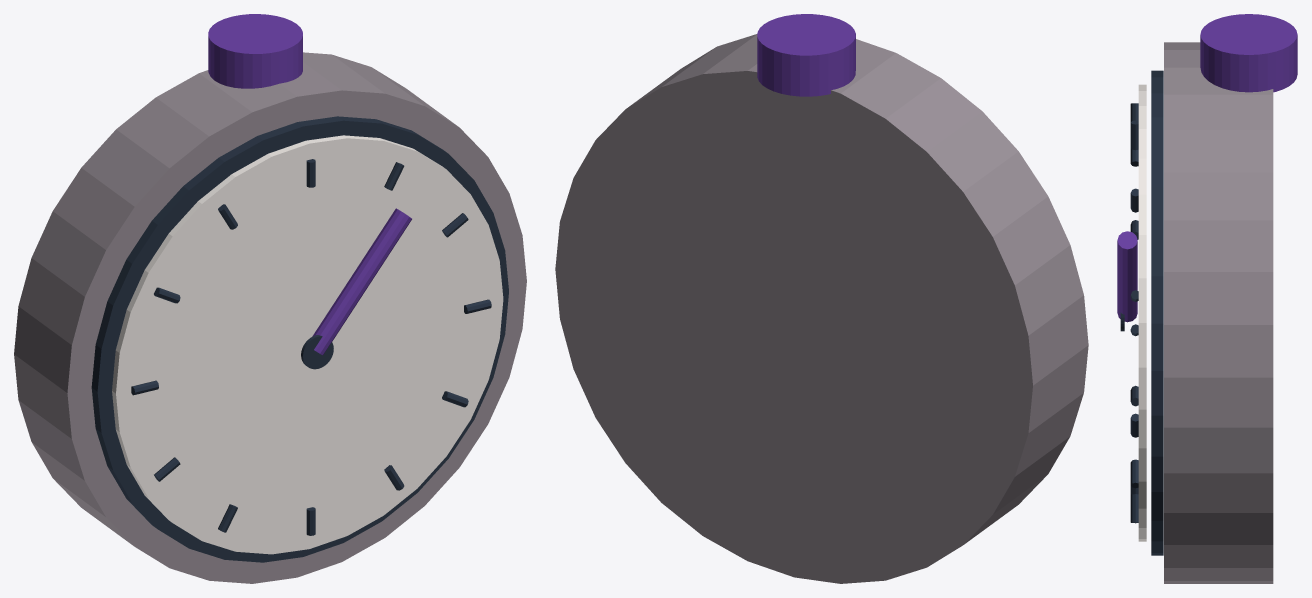
File: timer.glb
The picture shows the model from 3 angles, left to right: view 1: azimuth 30°, elevation 25°; view 2: azimuth 150°, elevation 25°; view 3: azimuth 270°, elevation 25°; orthographic projection. The views are drawn at different scales.
Parts seen in each view (by area): view 1: dial, housing, bezel, knob, timer hand0, hub; view 2: housing, knob; view 3: housing, knob, bezel, dial, timer hand0, tick 0, tick 5, tick 4.
Boxes of the visible parts, x1=… form: dial: x1=112, y1=135, x2=503, y2=554; housing: x1=14, y1=52, x2=526, y2=583; bezel: x1=91, y1=116, x2=508, y2=562; knob: x1=208, y1=14, x2=302, y2=88; timer hand0: x1=312, y1=208, x2=411, y2=355; hub: x1=301, y1=335, x2=333, y2=369; housing: x1=555, y1=34, x2=1088, y2=583; knob: x1=757, y1=14, x2=855, y2=96; housing: x1=1164, y1=42, x2=1273, y2=583; knob: x1=1200, y1=14, x2=1297, y2=92; bezel: x1=1151, y1=70, x2=1163, y2=555; dial: x1=1138, y1=84, x2=1146, y2=541; timer hand0: x1=1117, y1=231, x2=1137, y2=322; tick 0: x1=1130, y1=120, x2=1138, y2=150; tick 5: x1=1130, y1=494, x2=1138, y2=523; tick 4: x1=1130, y1=459, x2=1138, y2=488.
Bounding box in the file's own units: 1.34 × 1.43 × 0.445.
